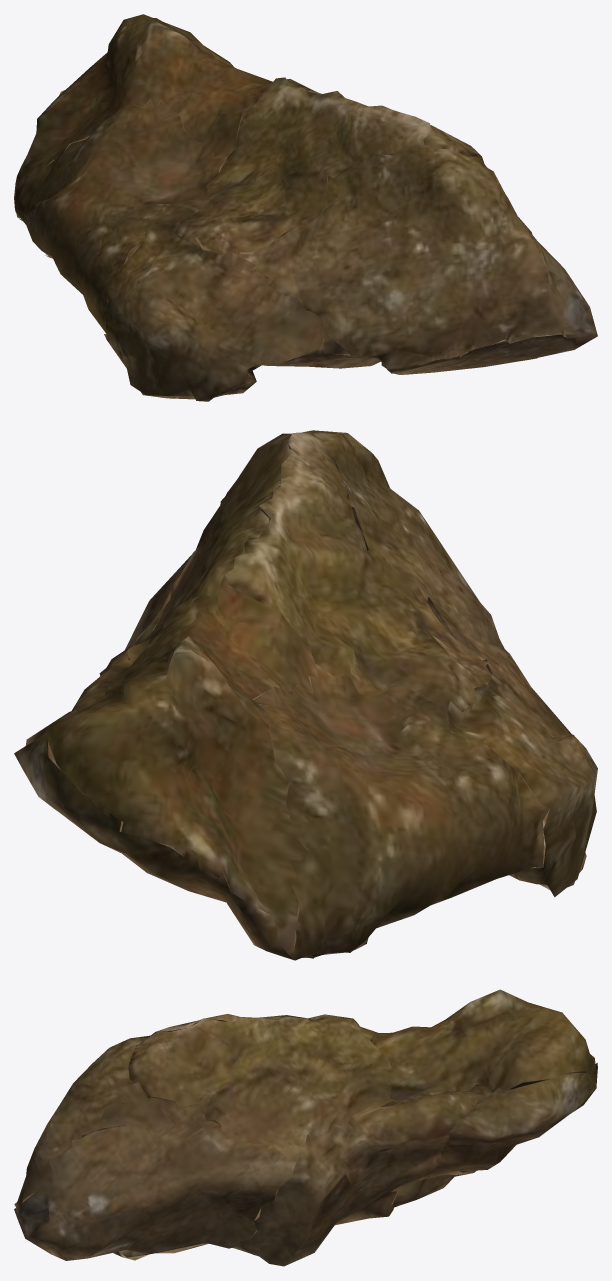
File: pr_moss_a_02.fbx
3 views of the same model, one above another, from view 1: azimuth 30°, elevation 25°; view 2: azimuth 150°, elevation 25°; view 3: azimuth 270°, elevation 25° (orthographic). The views are drawn at different scales.
Visible parts, largest first — view 1: pr_moss_a_02_LOD0; view 2: pr_moss_a_02_LOD0; view 3: pr_moss_a_02_LOD0.
Part boxes in pixels (x1,y1,x2,y2): pr_moss_a_02_LOD0: [14, 14, 597, 401]; pr_moss_a_02_LOD0: [14, 430, 597, 960]; pr_moss_a_02_LOD0: [14, 989, 597, 1266].
Size of what is drawn, in the model's own units: 2.24 by 1.47 by 3.38.
